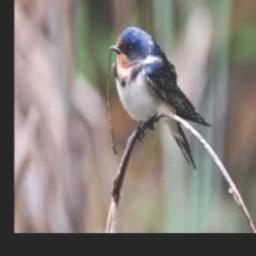Swallow: (109, 27, 211, 169)
